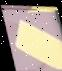scratch: (0, 2, 62, 71)
